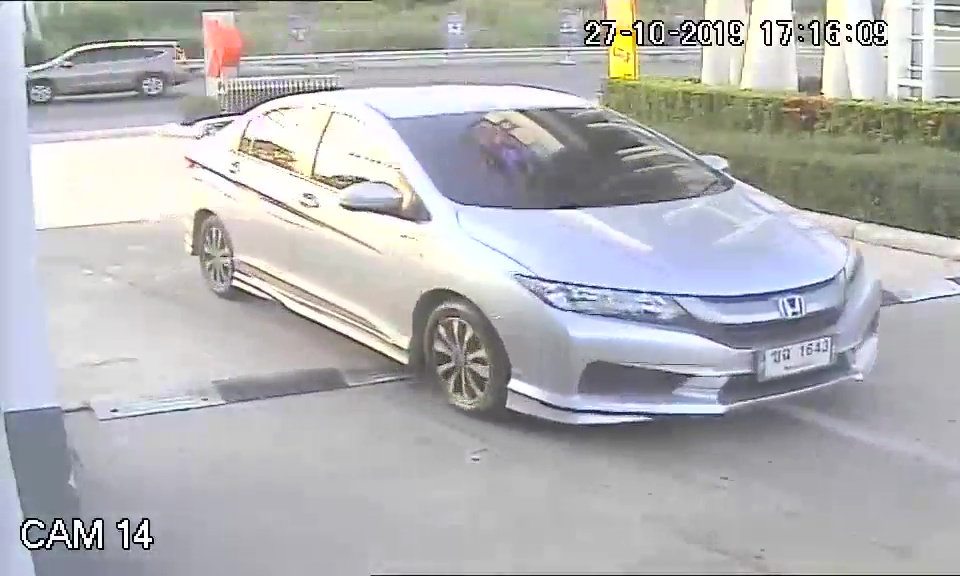sedan: (173, 90, 887, 432)
